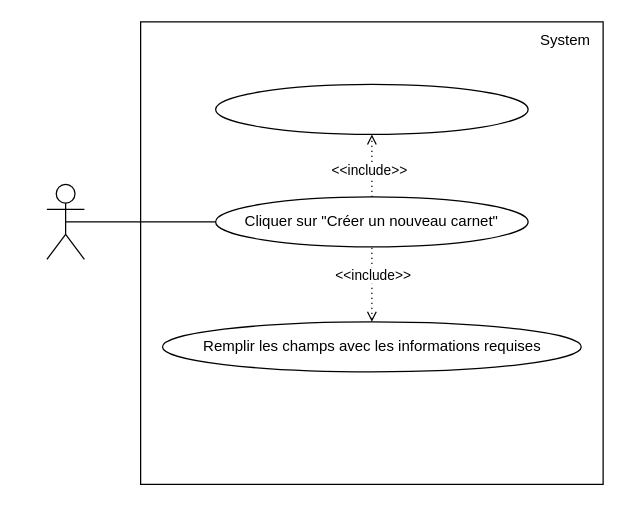
Some shapes in this 625 by 506 pixel diagram are drawn without their labels. Here are the shapes that lost their labels. From the top down, the centre of each, then its label:
At pixel 371 108: "Connexion autant qu'administrateur".
At pixel 65 221: "Responsable".
